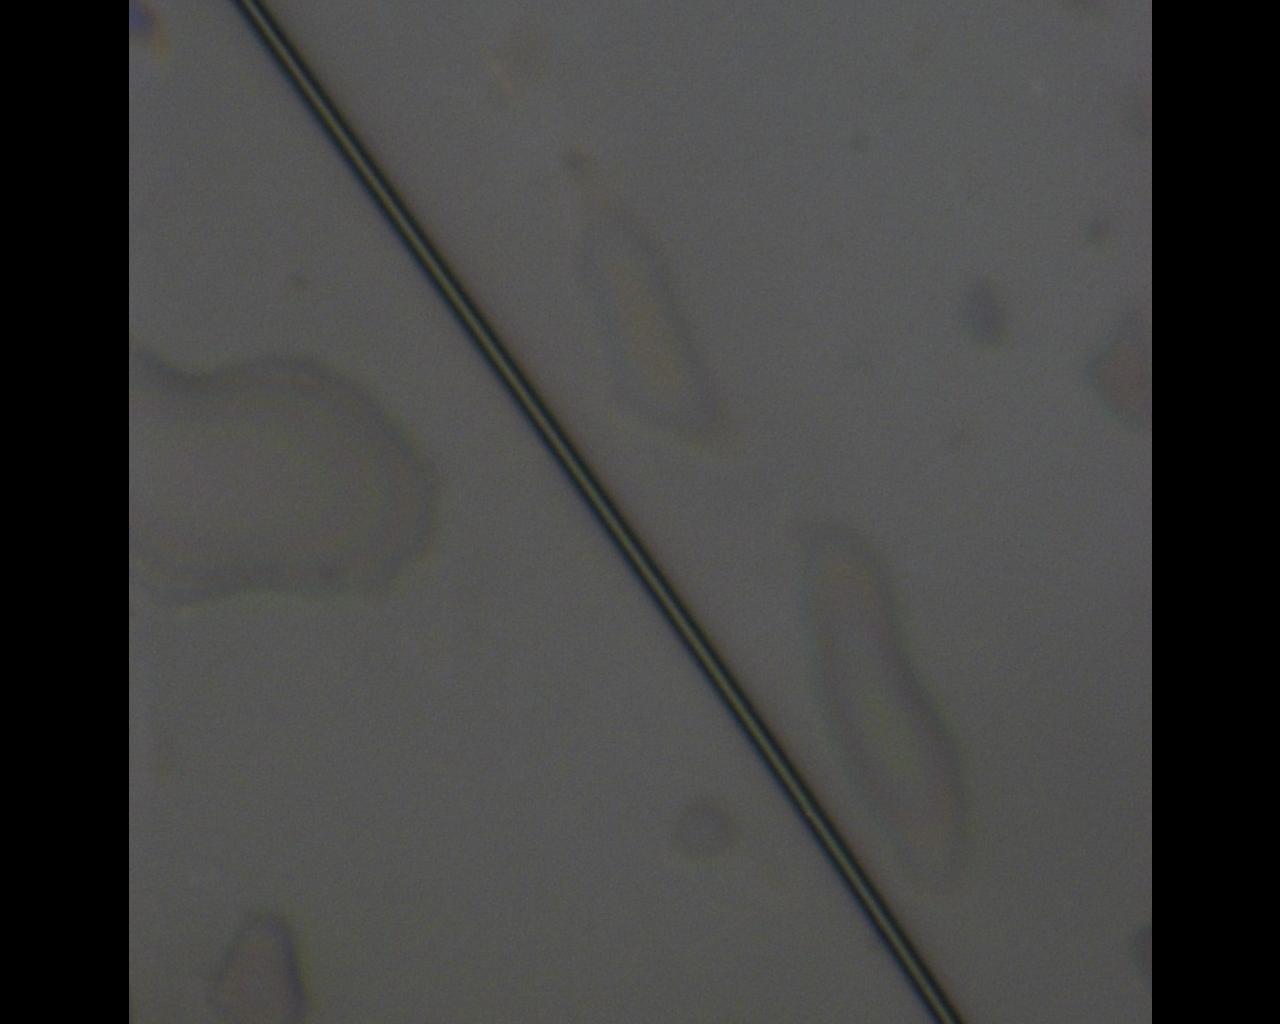fiber: (704, 0, 966, 655), (437, 655, 628, 1024), (173, 0, 246, 655)
